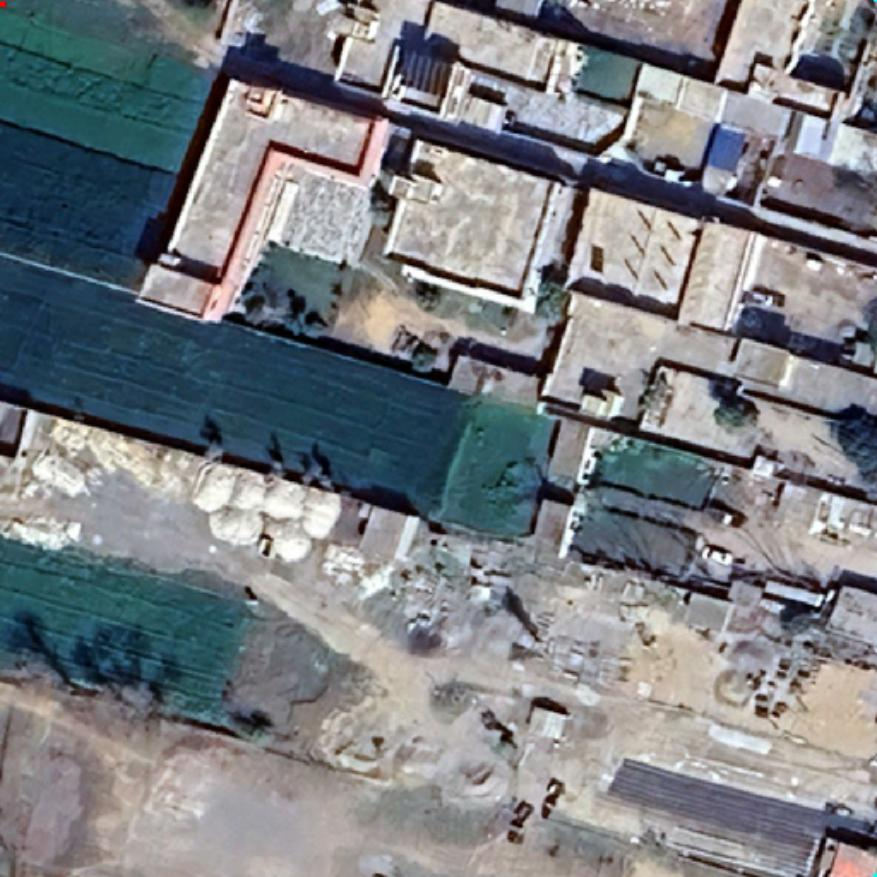Solarpanel: (391, 40, 457, 104), (590, 244, 604, 274)
